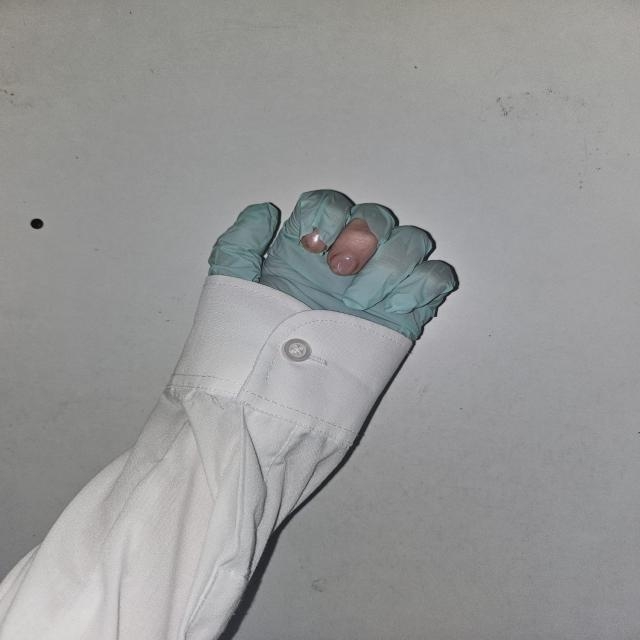gloves_damaged: (205, 186, 461, 350)
